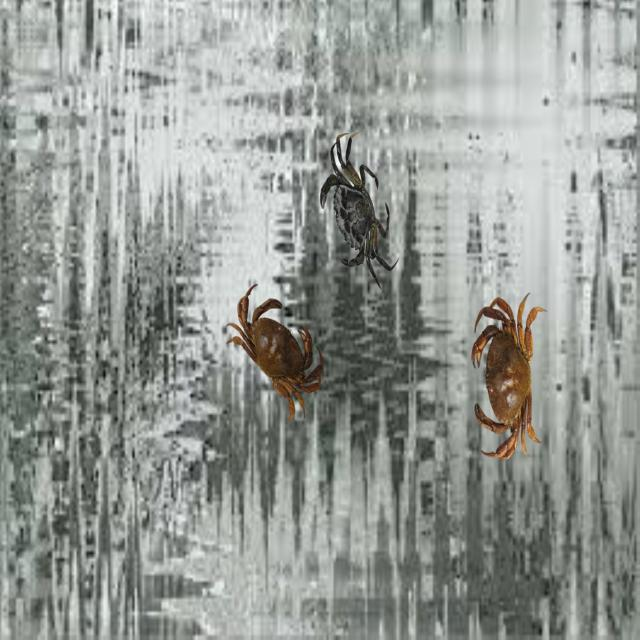European_Green_Crab: (305, 121, 410, 308)
